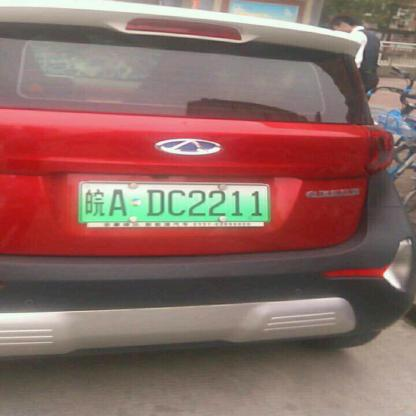lp: (80, 182, 268, 222)
